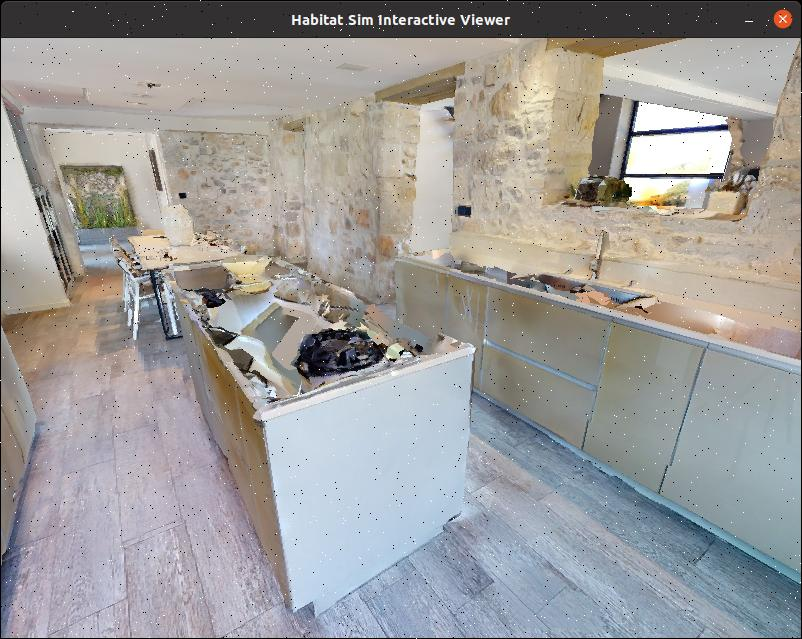door-frame: (37, 121, 180, 291), (380, 87, 473, 329)
